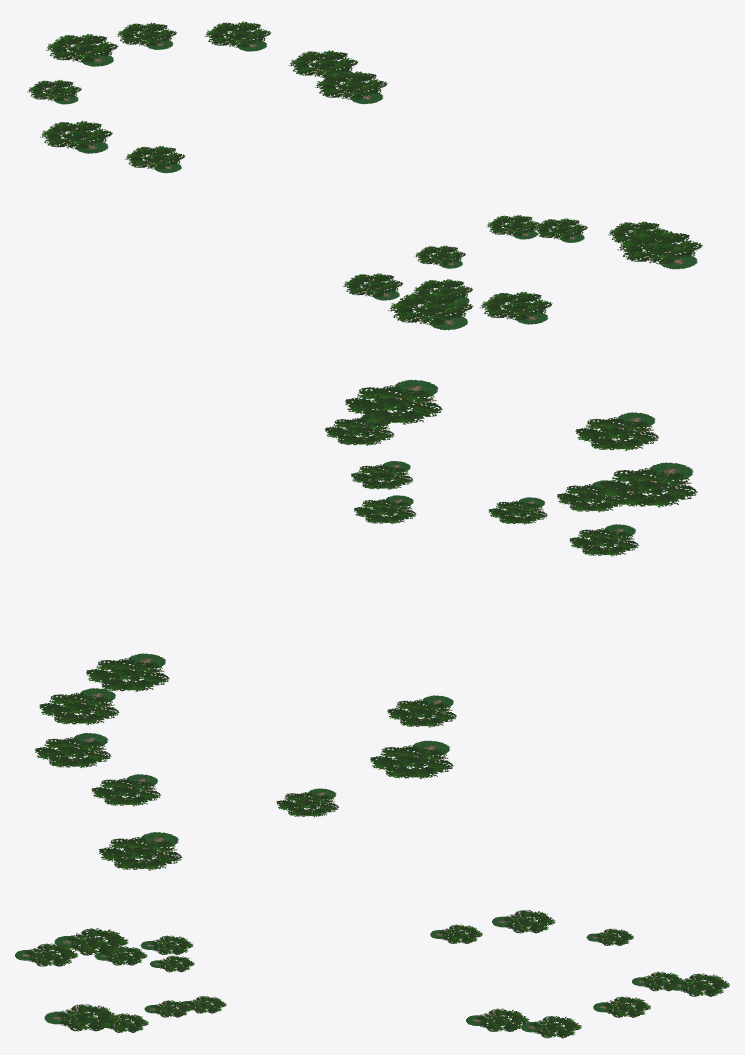
Rendered from glf_map_fc14__glf_tree_fc14.glb.
The picture shows the model from 3 angles, top to bottom: view 1: azimuth 30°, elevation 25°; view 2: azimuth 150°, elevation 25°; view 3: azimuth 270°, elevation 25°; orthographic projection. The views are drawn at different scales.
Visible parts, largest first — view 1: polygon0; view 2: polygon0; view 3: polygon0.
Boxes of the visible parts, x1,y1,x2,y2 form: polygon0: (27, 21, 702, 330); polygon0: (35, 379, 697, 870); polygon0: (15, 910, 729, 1038).
Size of the model in its own units: 999 by 117 by 2110.
Materials: 1 (1 with a texture image).
